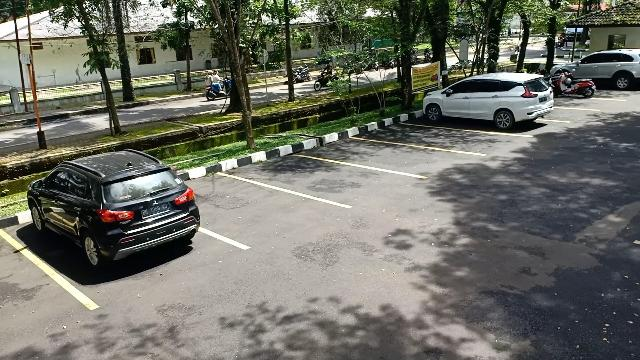empty: (200, 176, 300, 250), (274, 156, 378, 204), (341, 137, 424, 175), (390, 121, 490, 152)
occupied: (26, 165, 204, 285), (420, 83, 554, 133)
